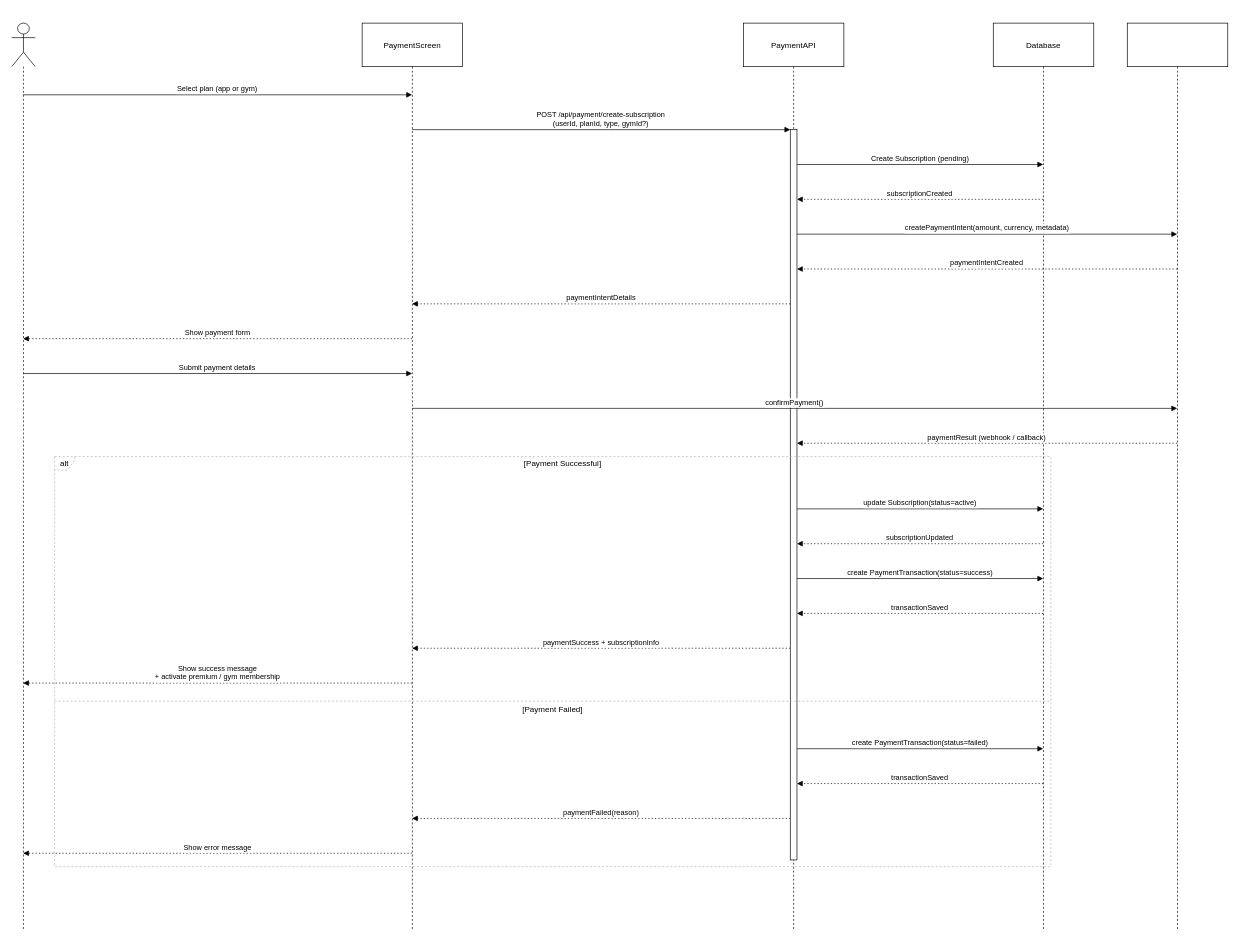
Some shapes in this 1240 by 942 pixel diagram are drawn without their labels. The shapes that lost their labels are listed below. From the top down, each one's box as (x1, y1, x2, y2) in pixels, then its label:
(11, 22, 35, 930): User
(1127, 22, 1228, 930): PaymentGateway
